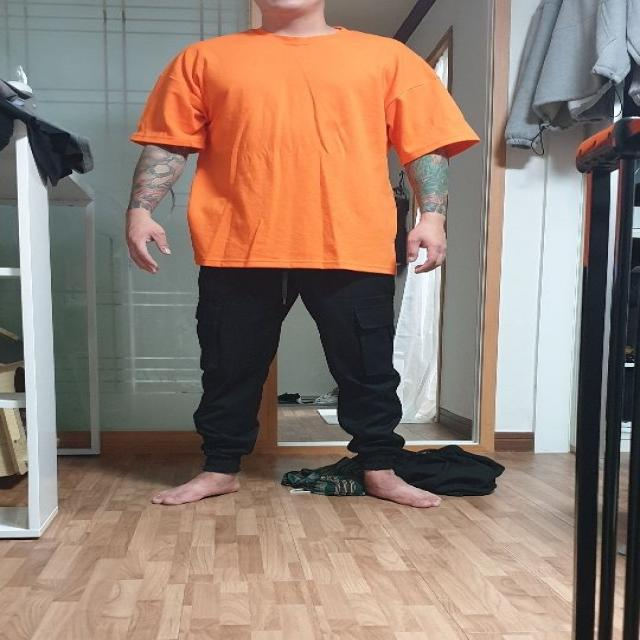cottonpants: (189, 269, 406, 477)
shortsleeve: (130, 24, 480, 270)
